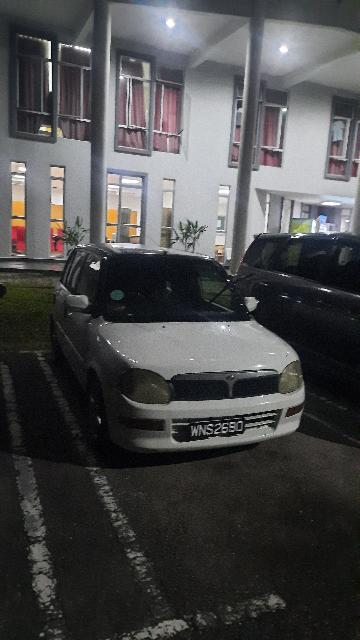License_Plate: (177, 418, 248, 444)
car: (56, 240, 310, 454)
